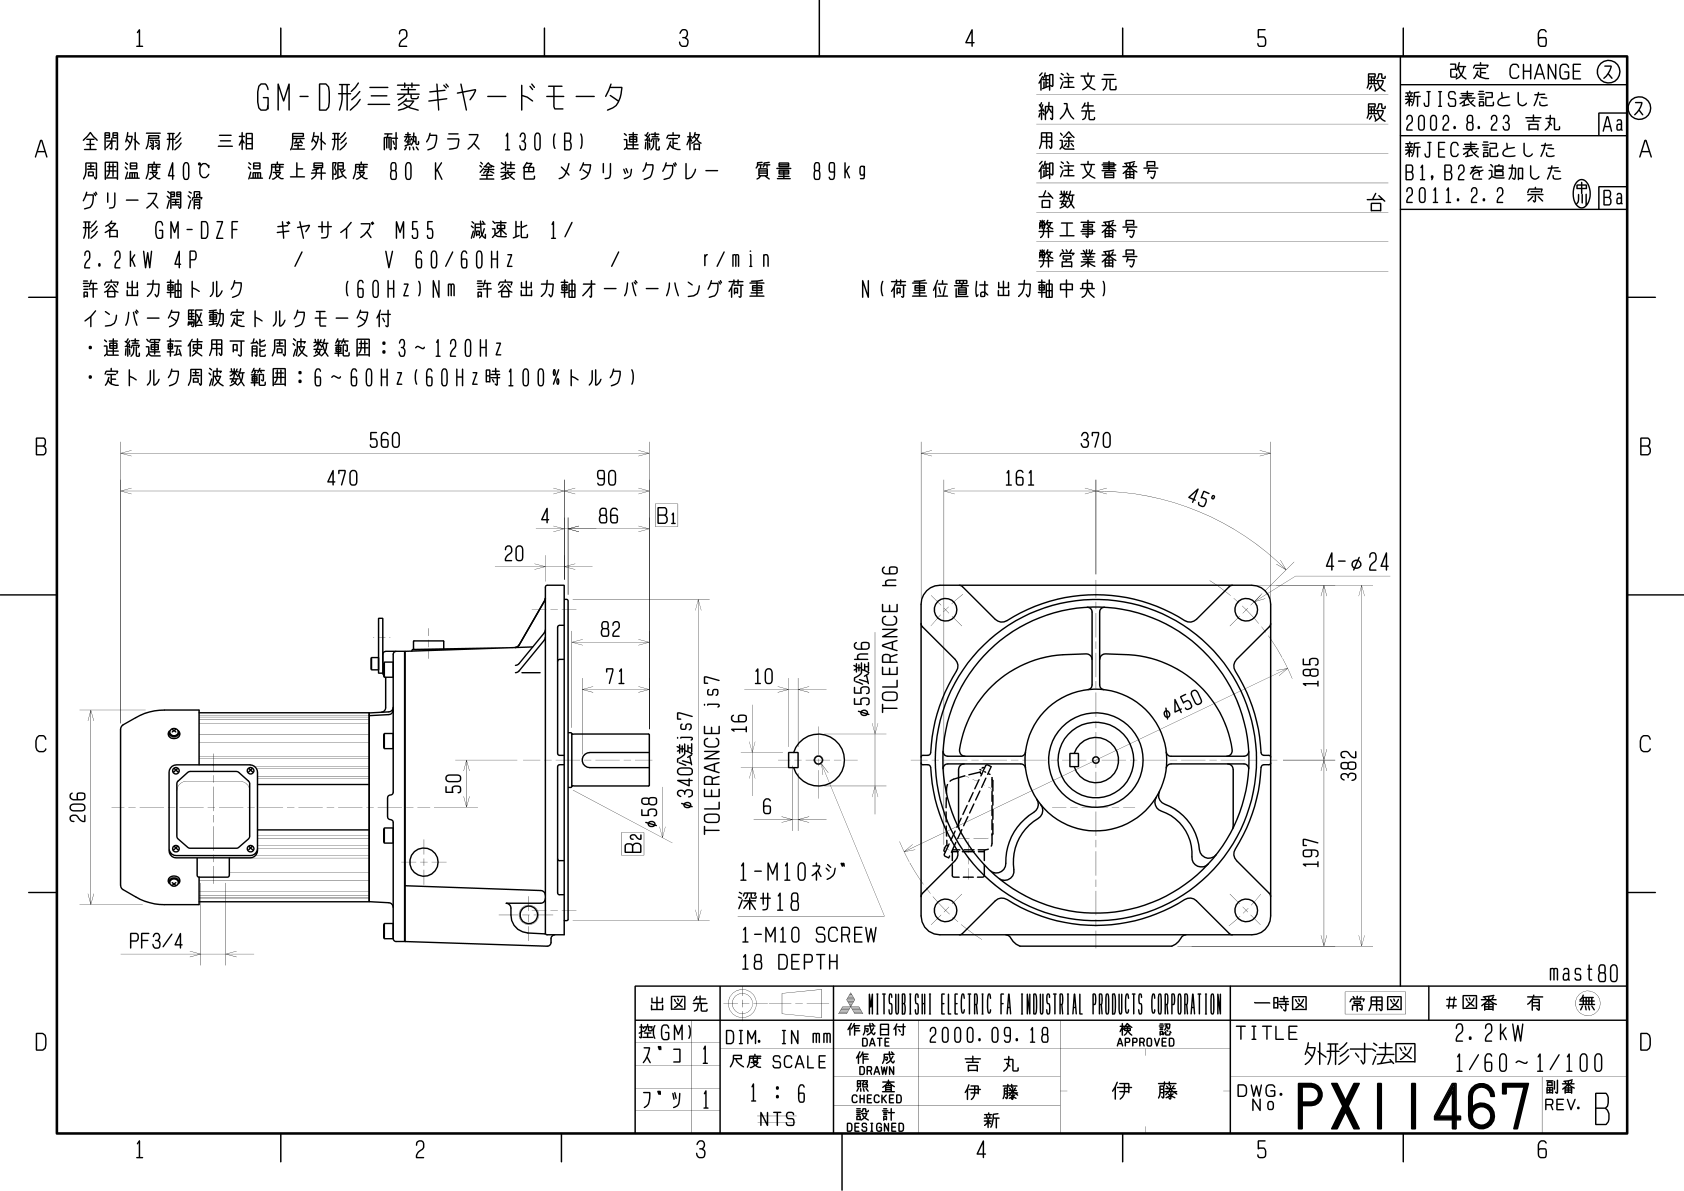GM_D_インバータ屋外_三相_フランジ: (1, 1, 1680, 1170)
